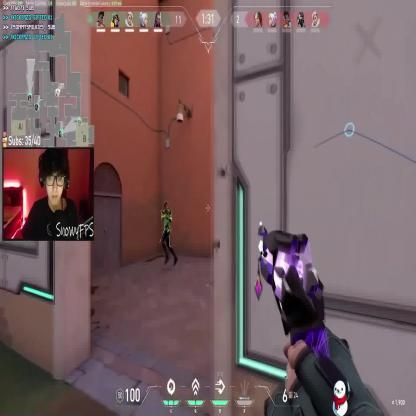enemy: (160, 200, 178, 266)
enemy_head: (164, 200, 168, 211)
